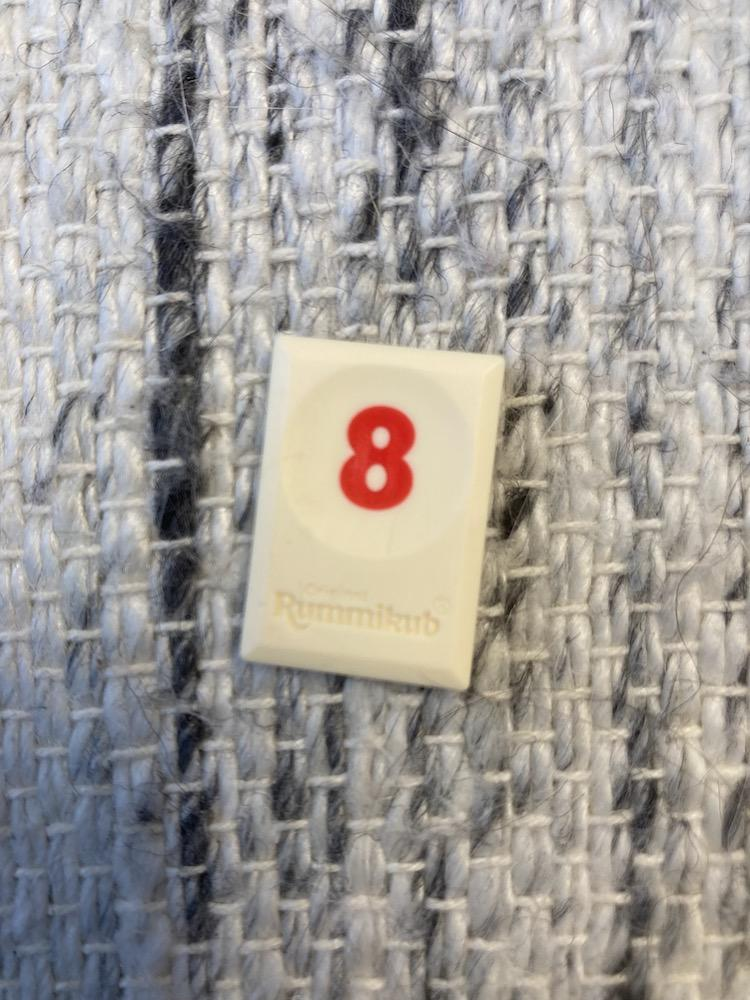red_8: (240, 334, 504, 689)
